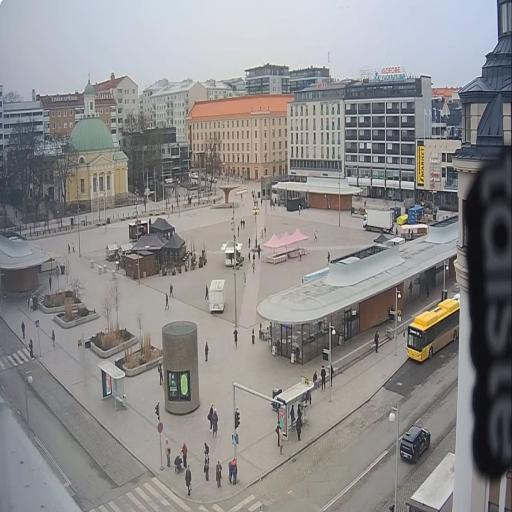bus: (402, 290, 461, 366)
car: (397, 422, 432, 464), (209, 174, 218, 183), (191, 172, 198, 180), (202, 174, 204, 181)
delivery: (362, 209, 394, 234)
